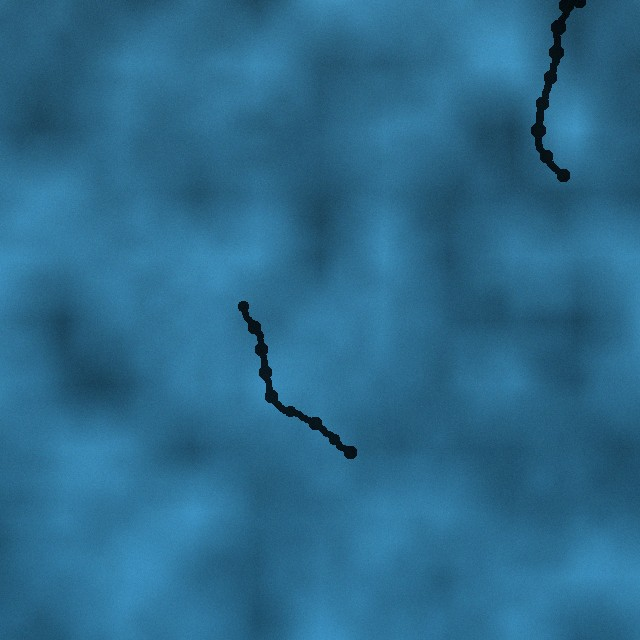crack: (236, 300, 357, 460), (531, 0, 588, 182)
